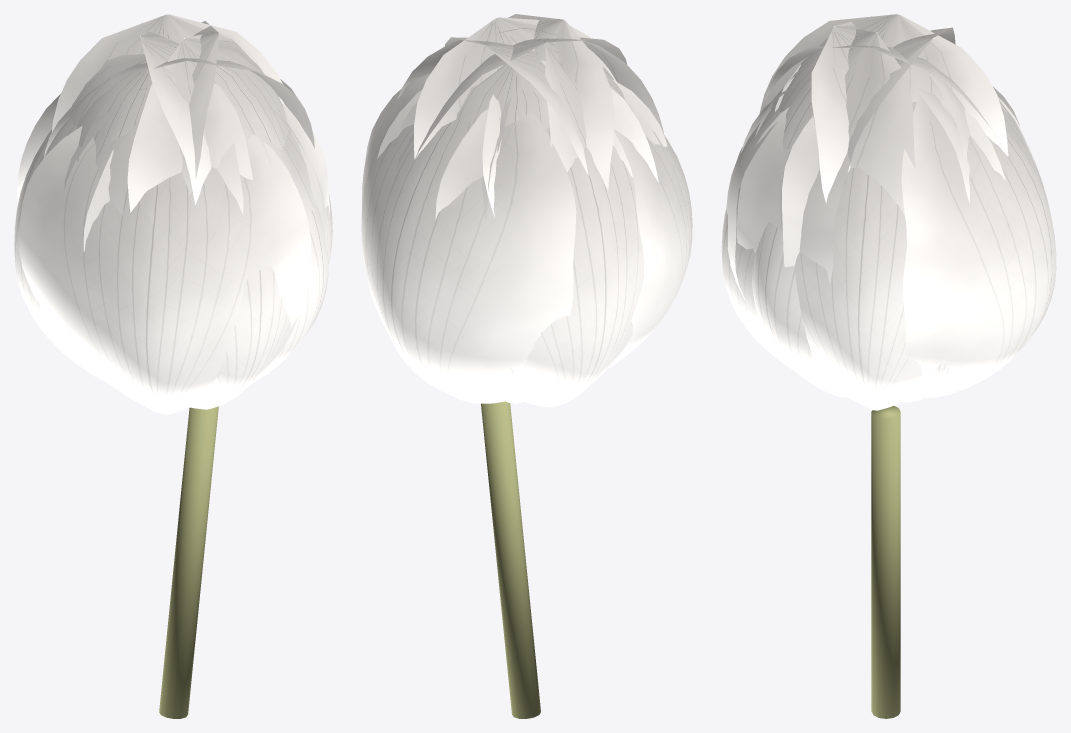
Rendered from lotus_bud.glb.
The picture shows the model from 3 angles, left to right: view 1: azimuth 30°, elevation 25°; view 2: azimuth 150°, elevation 25°; view 3: azimuth 270°, elevation 25°; orthographic projection.
Parts seen in each view (by area): view 1: petal.008, petal.009, Cylinder, petal, petal.015, petal.016, petal.006, petal.010, petal.001, petal.014, petal.012, petal.002 (+4 smaller); view 2: petal.004, petal.006, Cylinder, petal.008, petal.014, petal.012, petal.013, petal.015, petal.016, petal.005, petal.009, petal.010 (+1 smaller); view 3: petal.004, petal.002, petal.009, Cylinder, petal.010, petal.001, petal, petal.012, petal.003, petal.008, petal.016, petal.014 (+2 smaller).
Part boxes in pixels (x1=…): petal.008: x1=19, y1=126, x2=311, y2=414; petal.009: x1=127, y1=33, x2=288, y2=212; Cylinder: x1=159, y1=406, x2=218, y2=718; petal: x1=83, y1=103, x2=329, y2=409; petal.015: x1=51, y1=54, x2=253, y2=179; petal.016: x1=51, y1=14, x2=284, y2=132; petal.006: x1=14, y1=117, x2=139, y2=384; petal.010: x1=140, y1=23, x2=211, y2=204; petal.001: x1=252, y1=203, x2=328, y2=383; petal.014: x1=181, y1=21, x2=219, y2=195; petal.012: x1=44, y1=58, x2=314, y2=157; petal.002: x1=252, y1=126, x2=332, y2=264; petal.004: x1=361, y1=73, x2=576, y2=403; petal.006: x1=435, y1=79, x2=667, y2=407; Cylinder: x1=481, y1=401, x2=540, y2=718; petal.008: x1=608, y1=129, x2=692, y2=368; petal.014: x1=414, y1=17, x2=616, y2=159; petal.012: x1=508, y1=14, x2=614, y2=190; petal.013: x1=400, y1=60, x2=634, y2=147; petal.015: x1=545, y1=42, x2=625, y2=172; petal.016: x1=445, y1=37, x2=588, y2=175; petal.005: x1=377, y1=88, x2=658, y2=403; petal.009: x1=397, y1=28, x2=663, y2=134; petal.010: x1=413, y1=37, x2=627, y2=163; petal.004: x1=901, y1=95, x2=1056, y2=397; petal.002: x1=737, y1=99, x2=1005, y2=410; petal.009: x1=778, y1=29, x2=915, y2=215; Cylinder: x1=871, y1=406, x2=900, y2=718; petal.010: x1=759, y1=14, x2=1008, y2=156; petal.001: x1=752, y1=222, x2=848, y2=397; petal: x1=721, y1=152, x2=849, y2=369; petal.012: x1=811, y1=16, x2=871, y2=203; petal.003: x1=782, y1=97, x2=1022, y2=402; petal.008: x1=726, y1=104, x2=781, y2=306; petal.016: x1=844, y1=27, x2=955, y2=184; petal.014: x1=765, y1=45, x2=1003, y2=149.
Size of the model in its own units: 0.498 by 1.13 by 0.5028.
2 materials, 1 textured.
